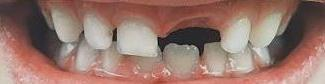Hypodontia: (156, 26, 227, 52)
